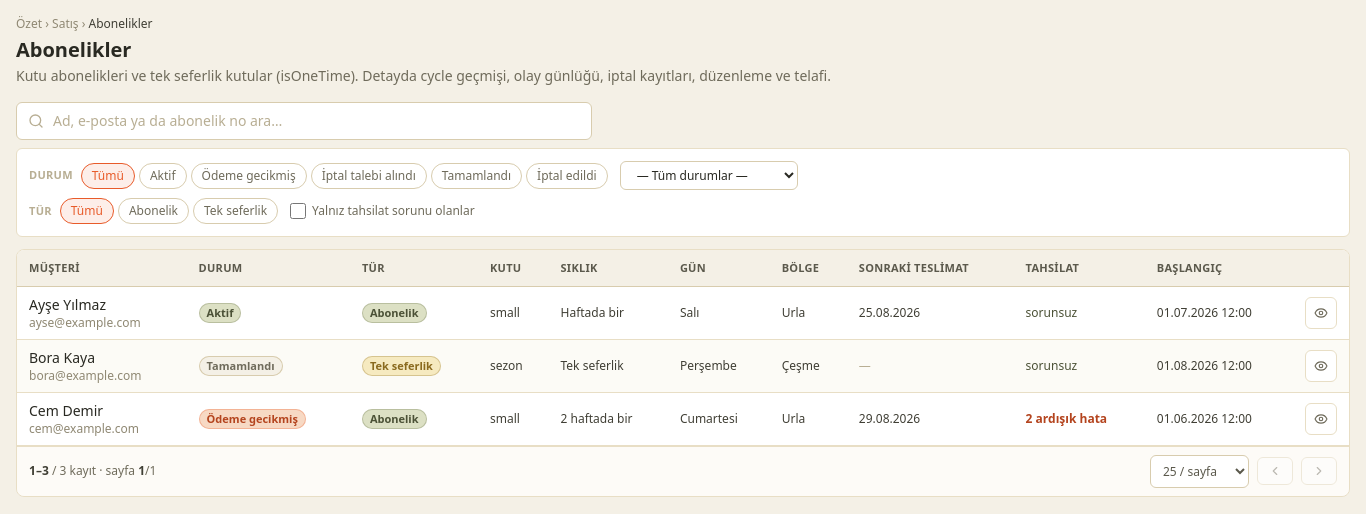
Scenario: AdminAboneliklerListePage (ekran 19) › durum filtresi sunucuya status parametresi gönderir
Expected: the link "Ayşe Yılmaz" is shown, [29,295,106,314]
Click the button "Ödeme gecikmiş".
click(249, 176)  # box [190,162,307,188]
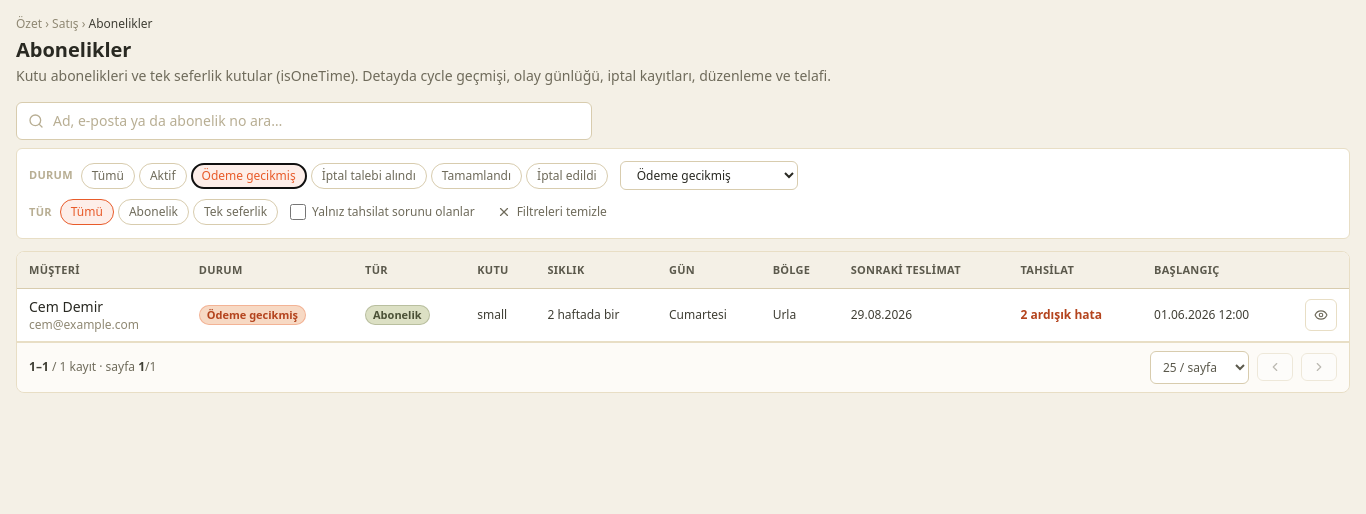
Expected: the link "Cem Demir" is shown, [29,297,103,316]
Result: the link "Ayşe Yılmaz" is gone
